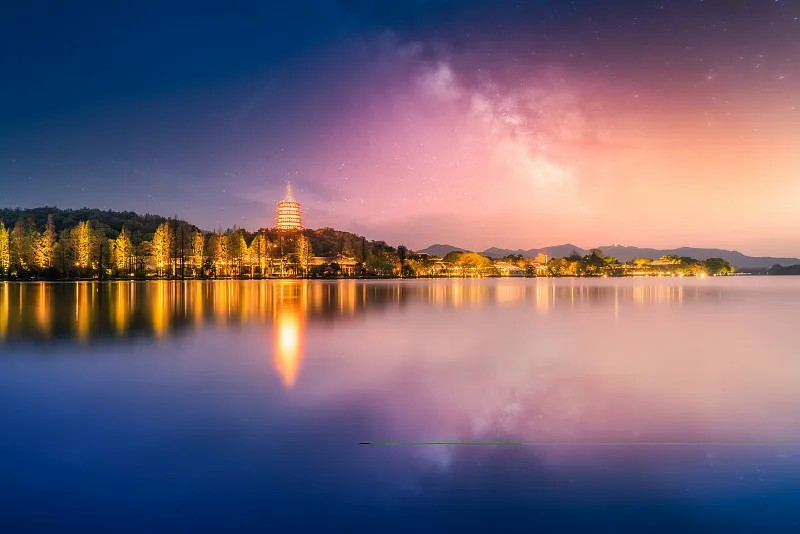Leifeng: (275, 179, 302, 231)
